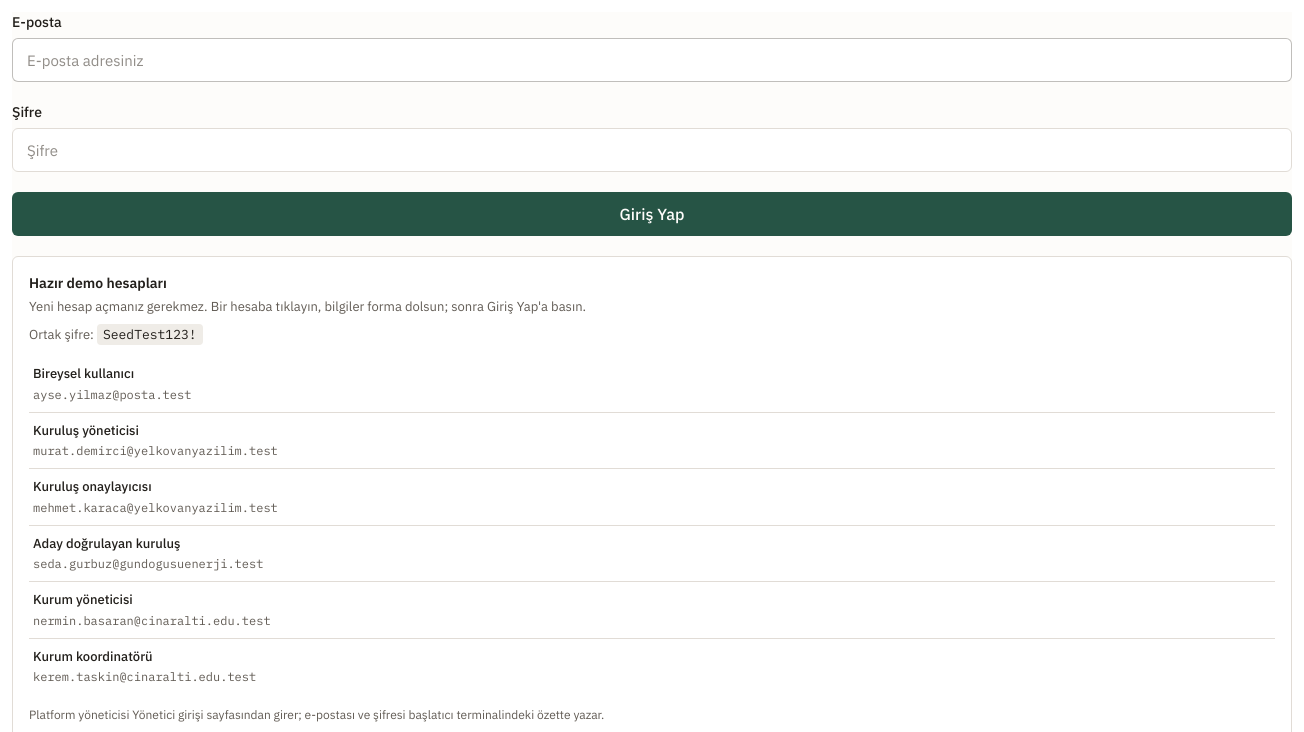
Scenario: Login demo accounts panel › fills email and password when an account is picked
This screenshot has width=1304, height=732.
Step 1. Click the button "Bireysel kullanıcı ayse.yilmaz@posta.test" → (84, 374), box top-left (29, 356), bottom-right (1275, 412)
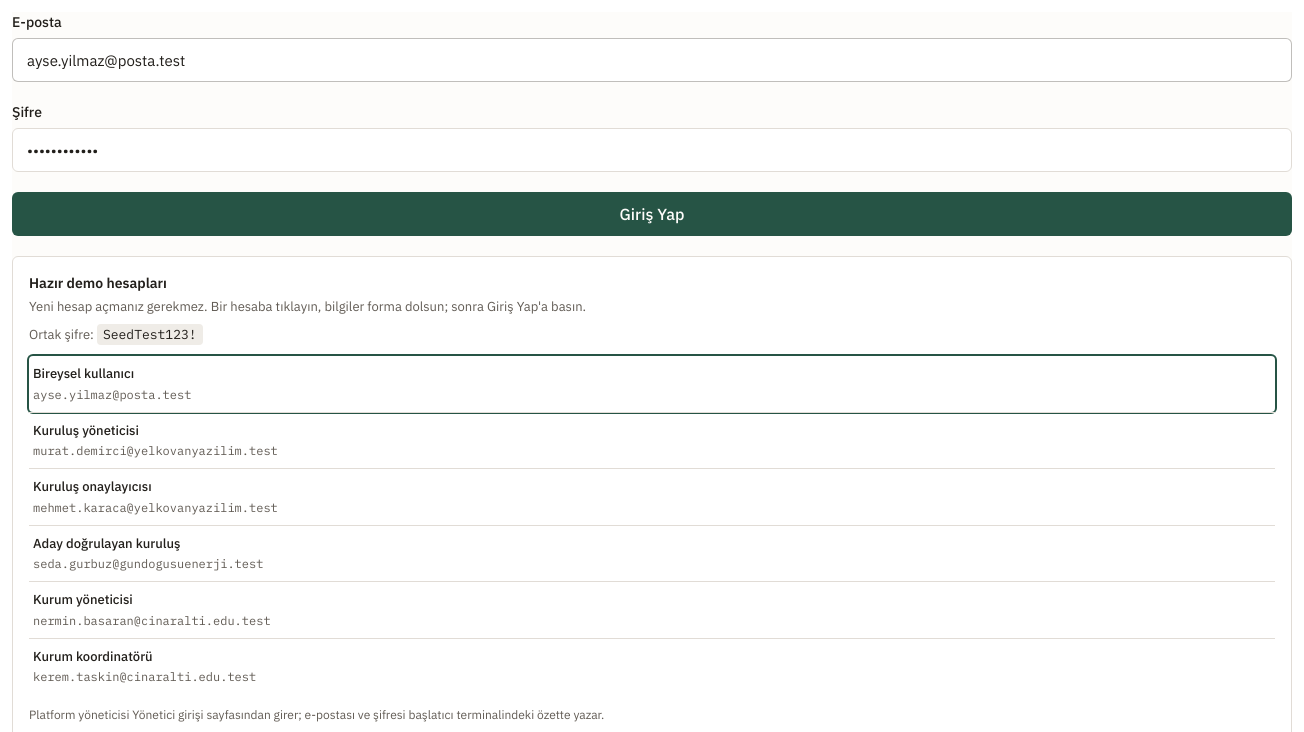
Result: the field labelled "E-posta" holds "ayse.yilmaz@posta.test" at top-left (12, 38), bottom-right (1292, 82)
Result: the password field labelled "Şifre" holds "SeedTest123!" at top-left (12, 128), bottom-right (1292, 172)
